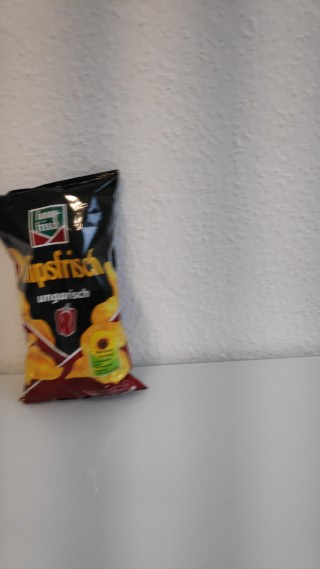chipsfrisch: (1, 167, 150, 407)
